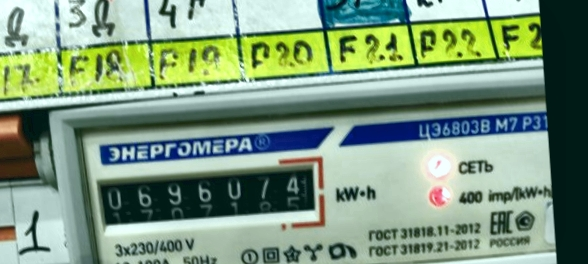0: (100, 184, 121, 209), (222, 174, 239, 200)
4: (280, 170, 297, 193)
5: (282, 195, 299, 211)
6: (193, 176, 212, 203), (132, 182, 151, 207)
7: (252, 173, 270, 199)
9: (162, 179, 180, 206)
screen: (83, 151, 327, 236)
